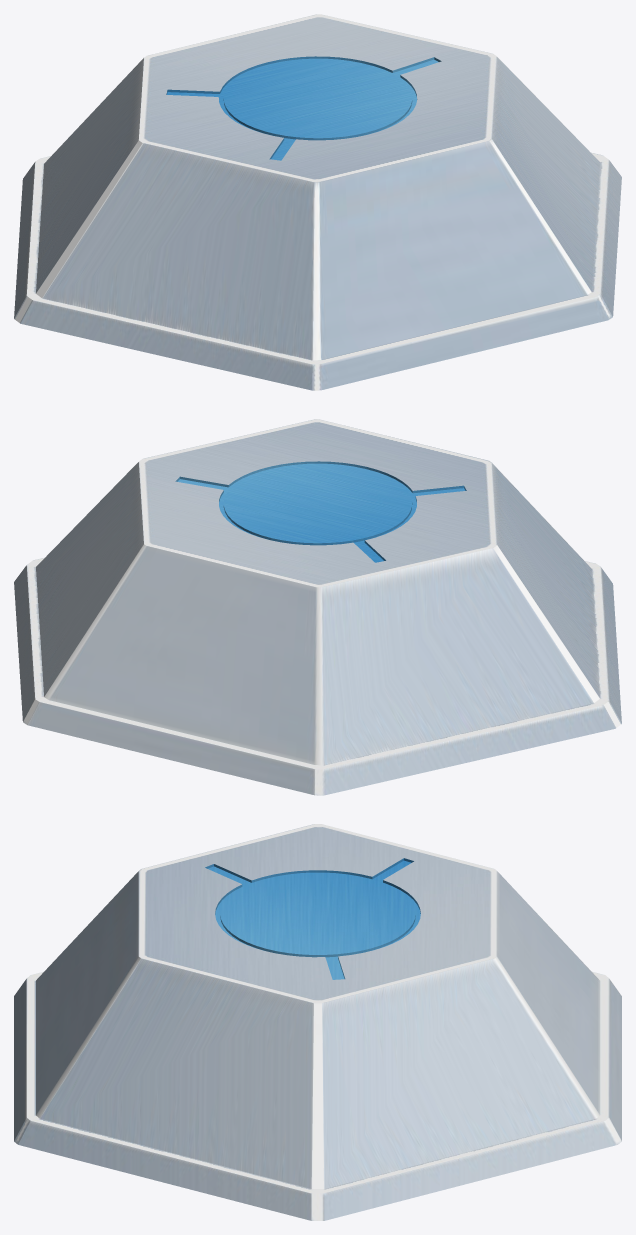
3 views of the same model, one above another, from view 1: azimuth 30°, elevation 25°; view 2: azimuth 150°, elevation 25°; view 3: azimuth 270°, elevation 25° (orthographic). The views are drawn at different scales.
Parts seen in each view (by area): view 1: base2, hole; view 2: base2, hole; view 3: base2, hole.
Part boxes in pixels (x1,y1,x2,y2): base2: [14, 14, 621, 390]; hole: [167, 58, 438, 160]; base2: [14, 419, 621, 795]; hole: [177, 463, 465, 562]; base2: [14, 824, 621, 1220]; hole: [208, 860, 420, 979].
Size of the model in its own units: 5.28 by 1.25 by 4.46.
